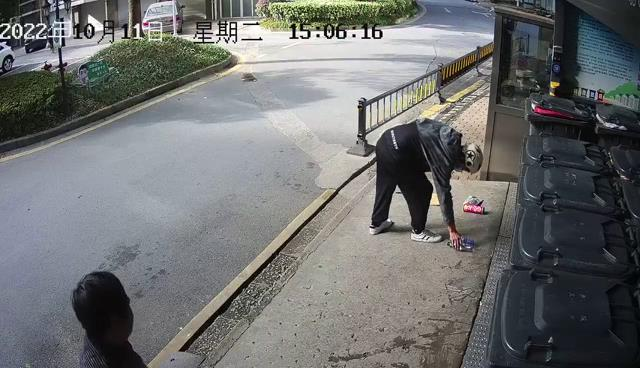lvzhipin: (448, 233, 477, 252), (462, 201, 486, 215)
person: (366, 117, 484, 251), (68, 269, 150, 368)
